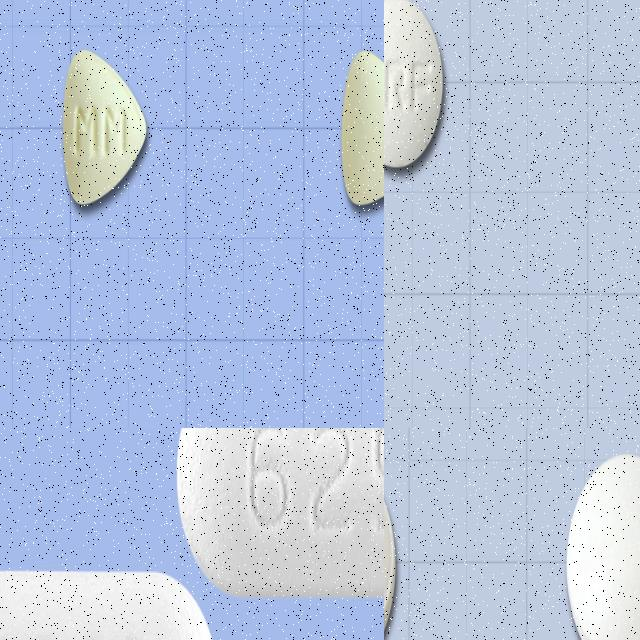Eprosin: (565, 450, 640, 640)
Leflunomide: (62, 48, 148, 208), (339, 50, 384, 205)
Leprosin: (384, 0, 444, 170)
Myungmoon Amoclan Tab: (178, 428, 384, 592), (0, 569, 220, 640)
